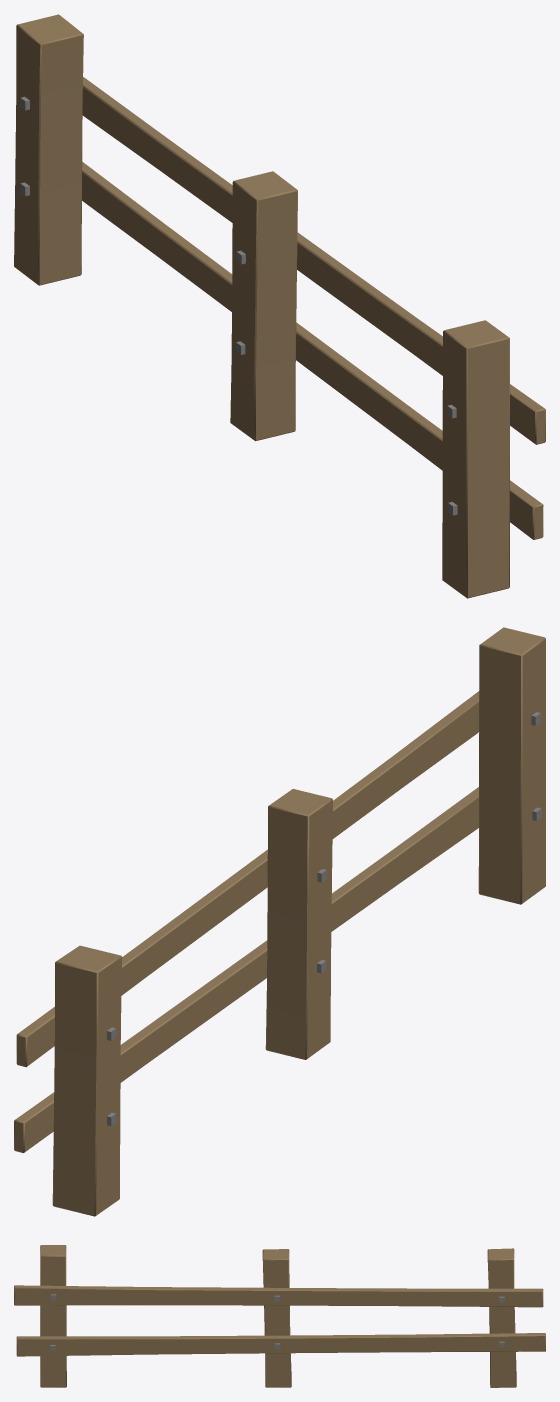
File: Fence.glb
3 views of the same model, one above another, from view 1: azimuth 30°, elevation 25°; view 2: azimuth 150°, elevation 25°; view 3: azimuth 270°, elevation 25° (orthographic). The views are drawn at different scales.
Parts seen in each view (by area): view 1: Mesh2 ElwFor_Fence_C01_1 Model, Mesh1 ElwFor_Fence_C03_1 Model, Mesh4 ElwFor_Fence_C02_1 Model, Mesh3 ElwFor_Fence_C05_1 Model, Mesh5 ElwFor_Fence_C04_1 Model; view 2: Mesh2 ElwFor_Fence_C01_1 Model, Mesh1 ElwFor_Fence_C03_1 Model, Mesh4 ElwFor_Fence_C02_1 Model, Mesh3 ElwFor_Fence_C05_1 Model, Mesh5 ElwFor_Fence_C04_1 Model; view 3: Mesh5 ElwFor_Fence_C04_1 Model, Mesh3 ElwFor_Fence_C05_1 Model, Mesh2 ElwFor_Fence_C01_1 Model, Mesh4 ElwFor_Fence_C02_1 Model, Mesh1 ElwFor_Fence_C03_1 Model.
Part boxes in pixels (x1=…): Mesh2 ElwFor_Fence_C01_1 Model: x1=442, y1=320, x2=509, y2=598; Mesh1 ElwFor_Fence_C03_1 Model: x1=14, y1=14, x2=83, y2=285; Mesh4 ElwFor_Fence_C02_1 Model: x1=230, y1=171, x2=297, y2=441; Mesh3 ElwFor_Fence_C05_1 Model: x1=82, y1=162, x2=543, y2=539; Mesh5 ElwFor_Fence_C04_1 Model: x1=82, y1=77, x2=545, y2=444; Mesh2 ElwFor_Fence_C01_1 Model: x1=478, y1=627, x2=545, y2=904; Mesh1 ElwFor_Fence_C03_1 Model: x1=52, y1=945, x2=122, y2=1216; Mesh4 ElwFor_Fence_C02_1 Model: x1=265, y1=789, x2=332, y2=1059; Mesh3 ElwFor_Fence_C05_1 Model: x1=14, y1=787, x2=478, y2=1152; Mesh5 ElwFor_Fence_C04_1 Model: x1=16, y1=691, x2=479, y2=1067; Mesh5 ElwFor_Fence_C04_1 Model: x1=14, y1=1285, x2=543, y2=1307; Mesh3 ElwFor_Fence_C05_1 Model: x1=16, y1=1333, x2=545, y2=1356; Mesh2 ElwFor_Fence_C01_1 Model: x1=40, y1=1245, x2=66, y2=1387; Mesh4 ElwFor_Fence_C02_1 Model: x1=262, y1=1249, x2=291, y2=1387; Mesh1 ElwFor_Fence_C03_1 Model: x1=487, y1=1248, x2=516, y2=1387.
Size of the model in its own units: 29 by 110 by 402.
